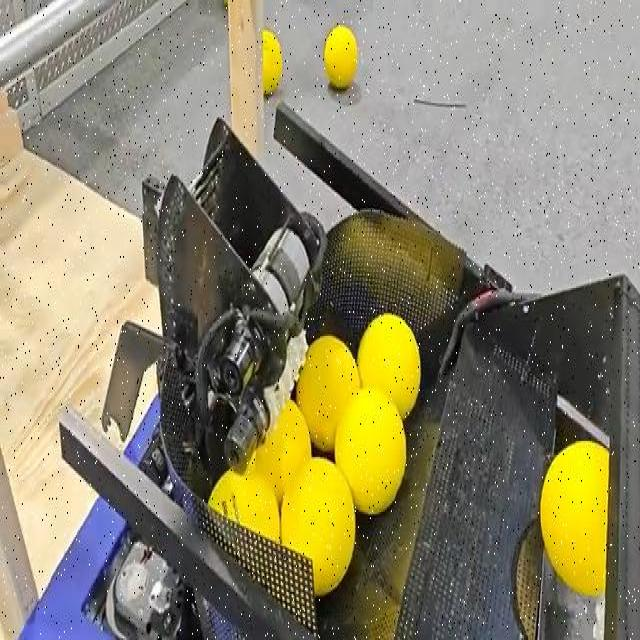Fuel: (540, 441, 608, 595), (281, 457, 355, 594), (335, 389, 405, 514), (296, 336, 359, 452), (357, 313, 420, 418), (251, 399, 311, 506), (255, 400, 310, 501), (208, 470, 279, 540), (324, 25, 357, 89), (263, 30, 282, 94)
